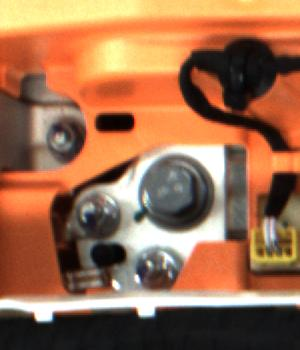nut_b: (134, 142, 217, 231)
screw_s: (44, 118, 85, 161), (71, 192, 113, 229), (129, 248, 171, 284)
